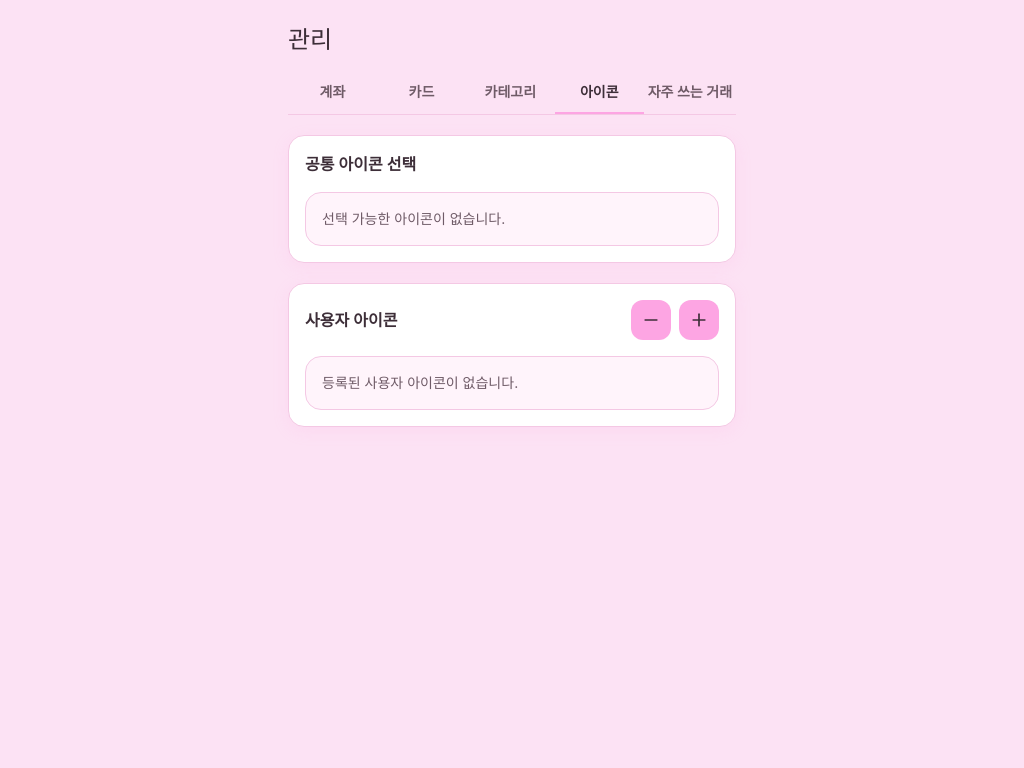
ManagePage — 계좌/카드 거래내역 네비게이션 (#284) › 미사용 아이콘을 선택하고 확인 후 삭제한다
This screenshot has width=1024, height=768.
Click the button named "사용하지 않는 아이콘 정리" at (651, 320), box x1=631 y1=300 x2=671 y2=340
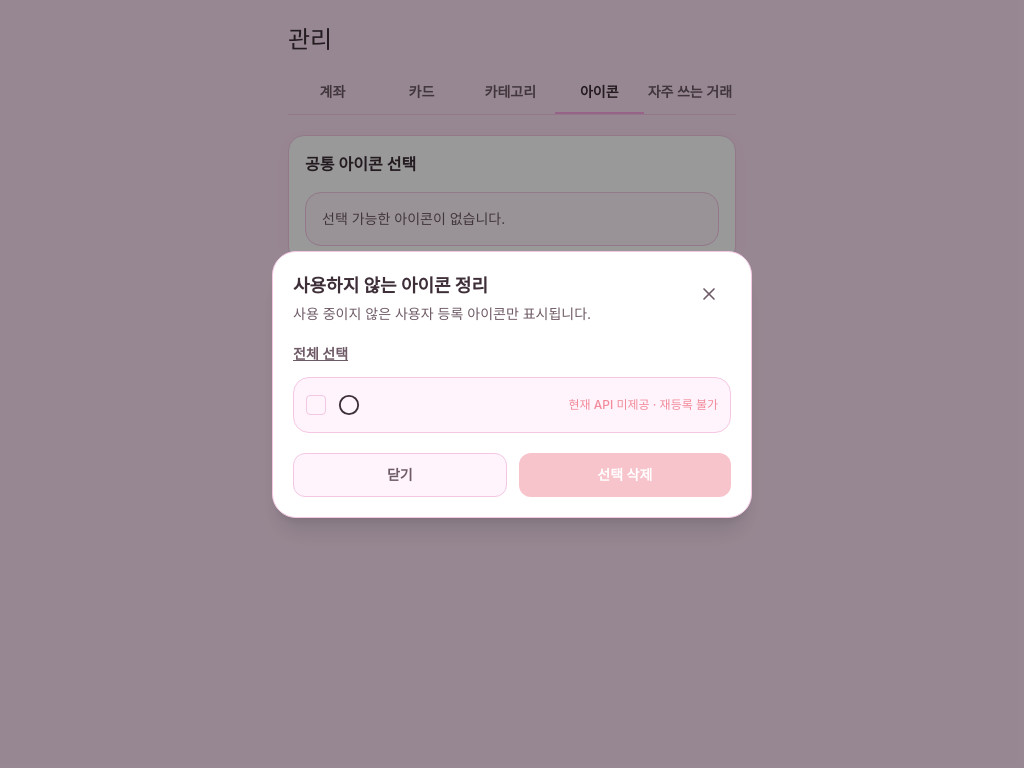
Click the button with aria-label "icon-old-edit 선택" at (643, 404), box x1=293 y1=376 x2=731 y2=432
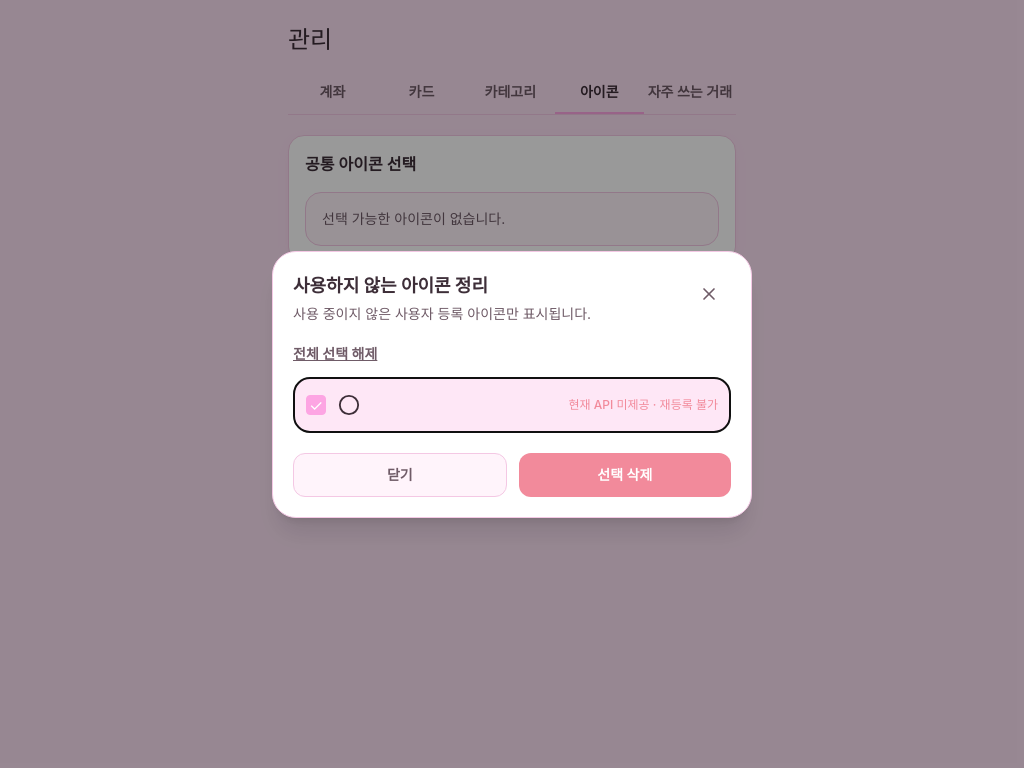
Click the button "선택 삭제" at (625, 474), box x1=519 y1=452 x2=731 y2=496
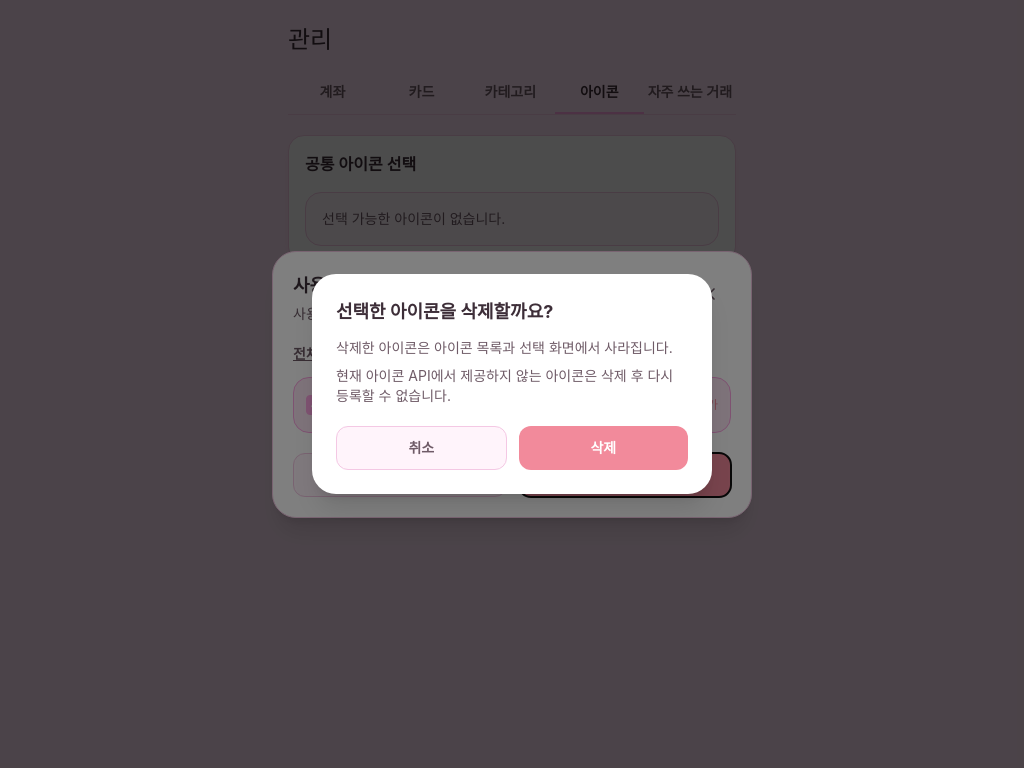
Result: the text "현재 아이콘 API에서 제공하지 않는 아이콘은 삭제 후 다시 등록할 수 없습니다." is shown at x1=336 y1=366 x2=688 y2=406
Click the button "삭제" at (603, 448), box x1=519 y1=426 x2=688 y2=470
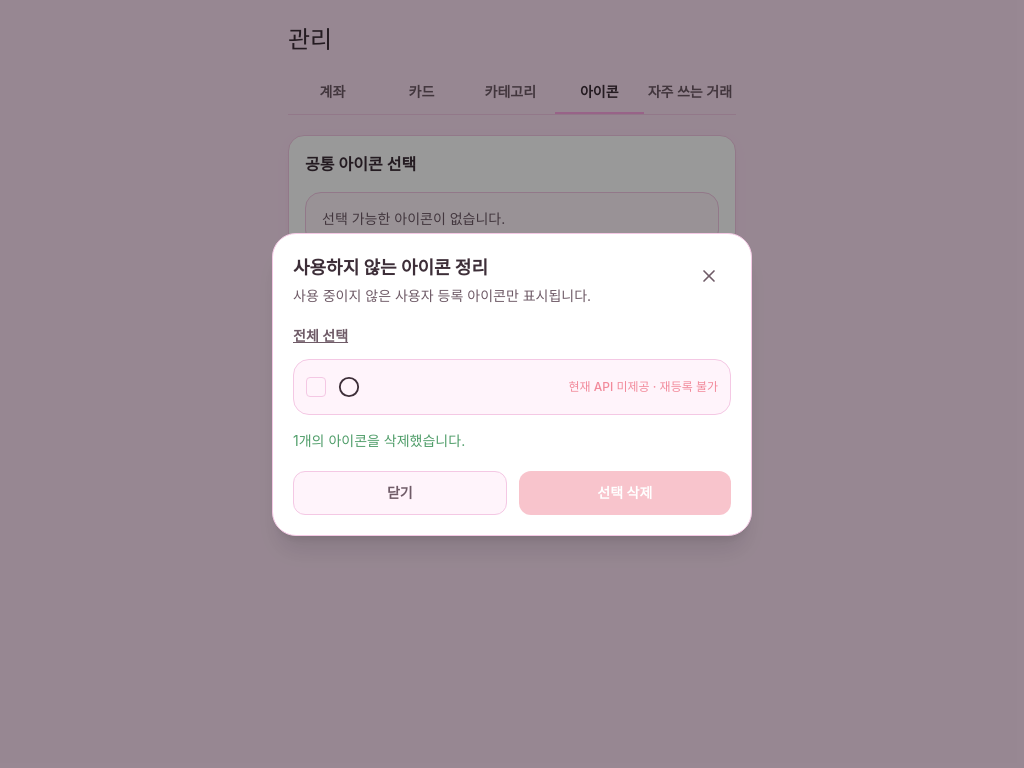
Result: the text "1개의 아이콘을 삭제했습니다." is shown at x1=293 y1=432 x2=465 y2=448
